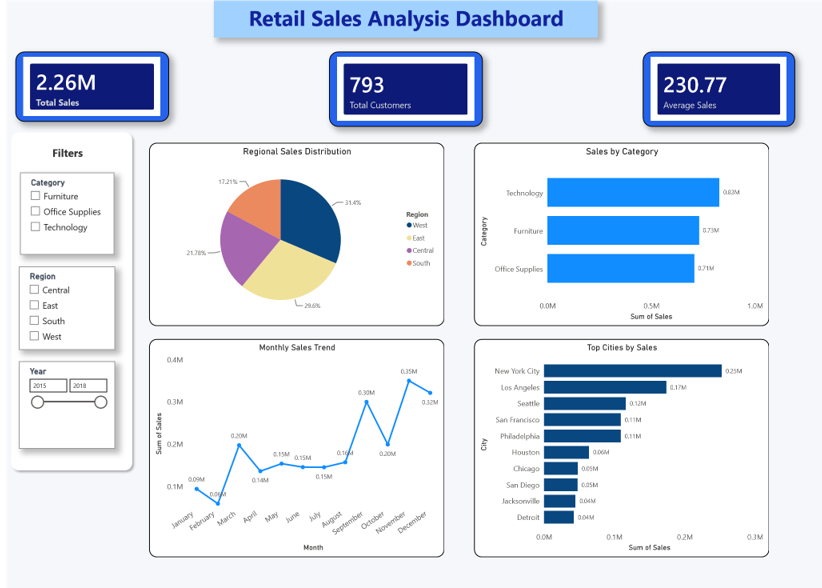

The dashboard page shown, as its layout file describes it:
{"tool":"powerbi","page":{"name":"Page 1","canvas":[1600,1200],"ordinal":0},"visuals":[{"type":"shape","box":[0,254,260,694],"z":0},{"type":"cardVisual","fields":{"Data":["Sum(final_retail_sales_data.Sales)"]},"box":[16.7,103.3,306.7,140],"z":1000},{"type":"clusteredBarChart","title":"Sales by Category","fields":{"Category":["final_retail_sales_data.Category"],"Y":["Sum(final_retail_sales_data.Sales)"]},"box":[934,284,590,366],"z":2000},{"type":"pieChart","title":"Regional Sales Distribution","fields":{"Category":["final_retail_sales_data.Region"],"Y":["Sum(final_retail_sales_data.Sales)"]},"box":[284,284,590,366],"z":3000},{"type":"lineChart","title":"Monthly Sales Trend","fields":{"Category":["final_retail_sales_data.Month"],"Y":["Sum(final_retail_sales_data.Sales)"]},"box":[284,678,590,436],"z":4000},{"type":"clusteredBarChart","title":"Top Cities by Sales","fields":{"Category":["final_retail_sales_data.City"],"Y":["Sum(final_retail_sales_data.Sales)"]},"box":[934,678,590,436],"z":5000},{"type":"slicer","fields":{"Values":["final_retail_sales_data.Region"]},"box":[26,533,192,166],"z":6000},{"type":"slicer","fields":{"Values":["final_retail_sales_data.Category"]},"box":[28,346,188,164],"z":7000},{"type":"slicer","fields":{"Values":["final_retail_sales_data.Year"]},"box":[26,722,192,174],"z":8000},{"type":"textbox","box":[416,0,768,74],"z":9000},{"type":"cardVisual","fields":{"Data":["final_retail_sales_data.Total Customers"]},"box":[644.3,103.3,306.7,150],"z":10000},{"type":"cardVisual","fields":{"Data":["final_retail_sales_data.Average Sales"]},"box":[1272,103.3,304,150],"z":11000},{"type":"textbox","box":[48,284,148,44],"z":12000}]}

Visuals, with their boxes in screenshot pixels (x1, y1, x2, y2):
shape: BBox(2, 125, 133, 473)
cardVisual - Sum(final_retail_sales_data.Sales): BBox(11, 50, 164, 120)
"Sales by Category" clusteredBarChart: BBox(471, 140, 767, 324)
"Regional Sales Distribution" pieChart: BBox(145, 140, 441, 324)
"Monthly Sales Trend" lineChart: BBox(145, 338, 441, 557)
"Top Cities by Sales" clusteredBarChart: BBox(471, 338, 767, 557)
slicer - final_retail_sales_data.Region: BBox(15, 265, 111, 348)
slicer - final_retail_sales_data.Category: BBox(16, 171, 110, 254)
slicer - final_retail_sales_data.Year: BBox(15, 360, 111, 447)
textbox: BBox(211, 0, 596, 35)
cardVisual - final_retail_sales_data.Total Customers: BBox(325, 50, 479, 125)
cardVisual - final_retail_sales_data.Average Sales: BBox(640, 50, 793, 125)
textbox: BBox(26, 140, 100, 162)
